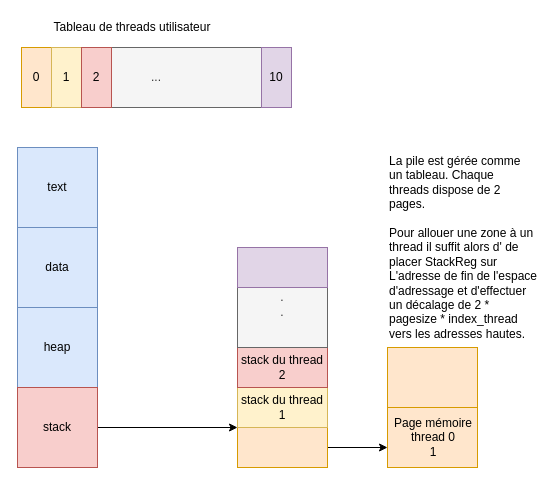
Image size: 555x485. Some labels were removed from this diagram. The centre of each missing label's shape, as x and y in pixels:
"Page mémoire thread 0 2" goes at point 432,377.
"stack du thread 0" goes at point 282,447.
"stack du thread 10" goes at point 282,267.
